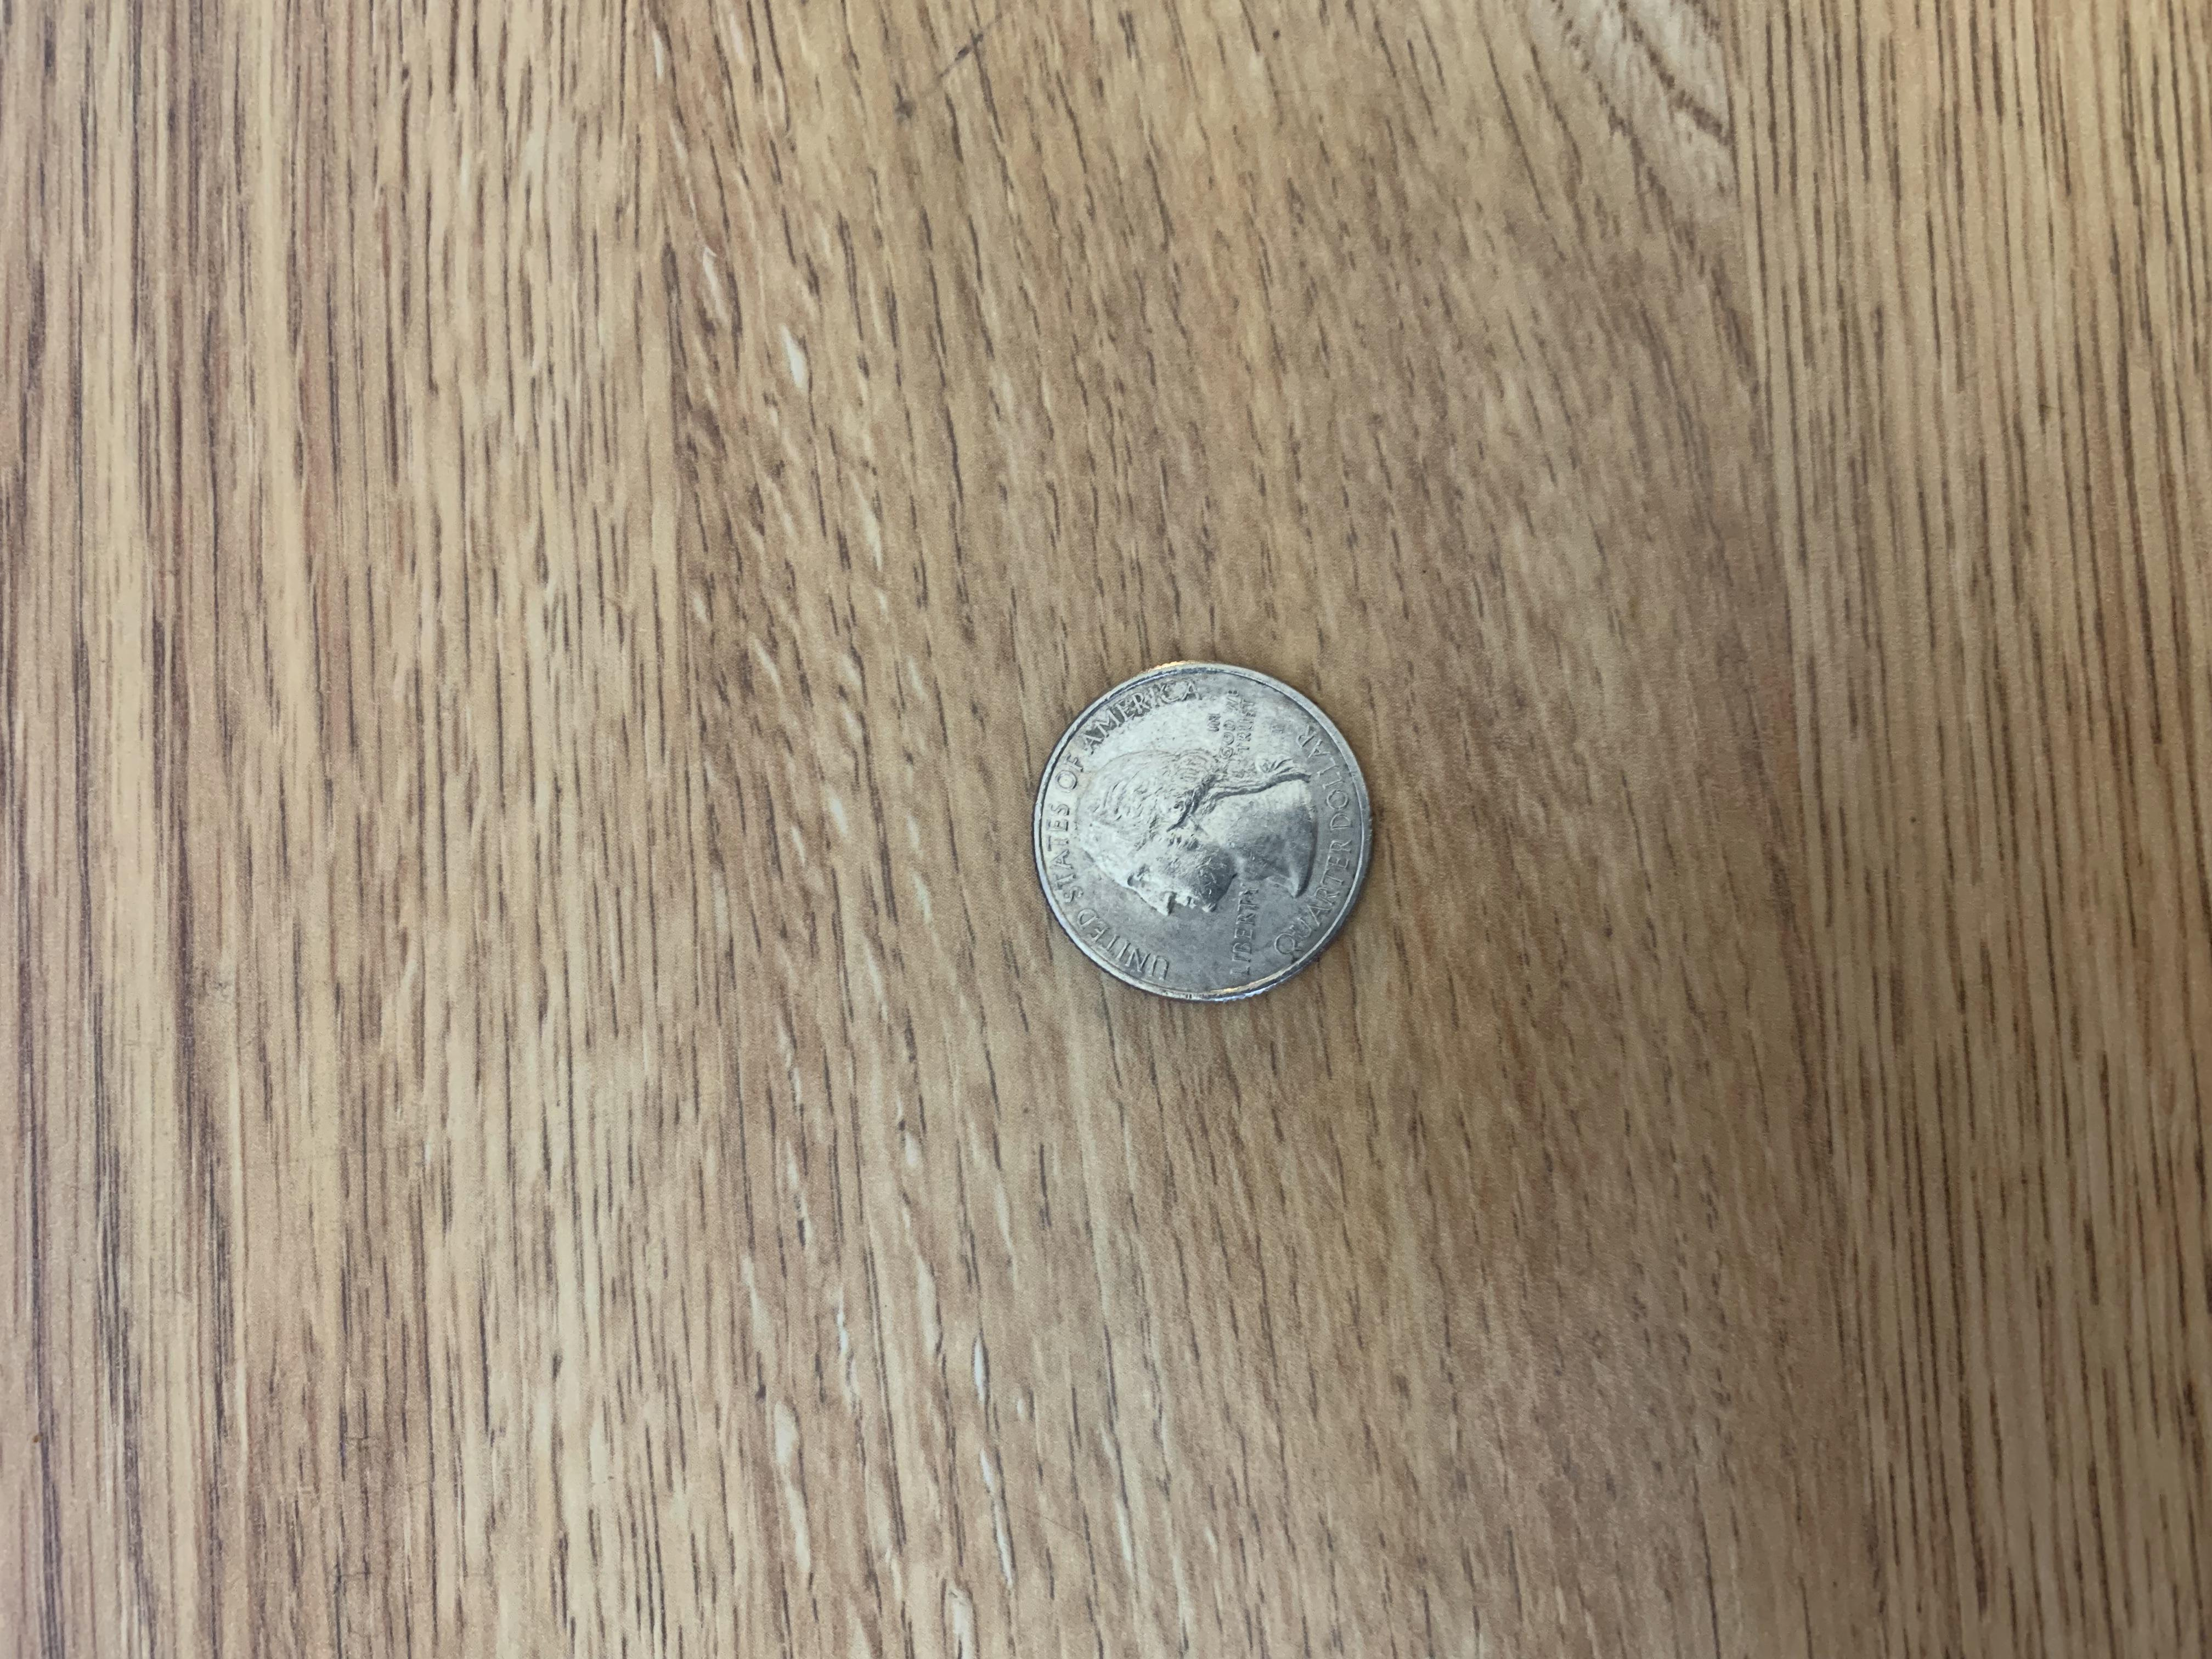Quarter: (1024, 647, 1397, 1018)
